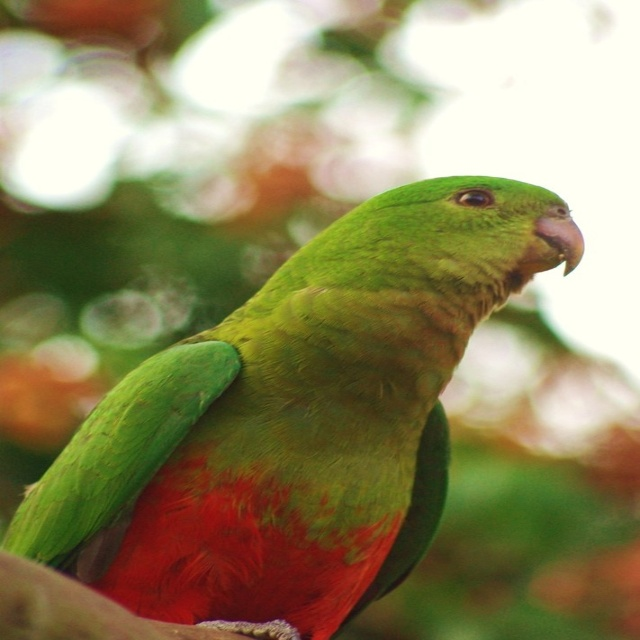Parrot: (0, 176, 585, 640)
